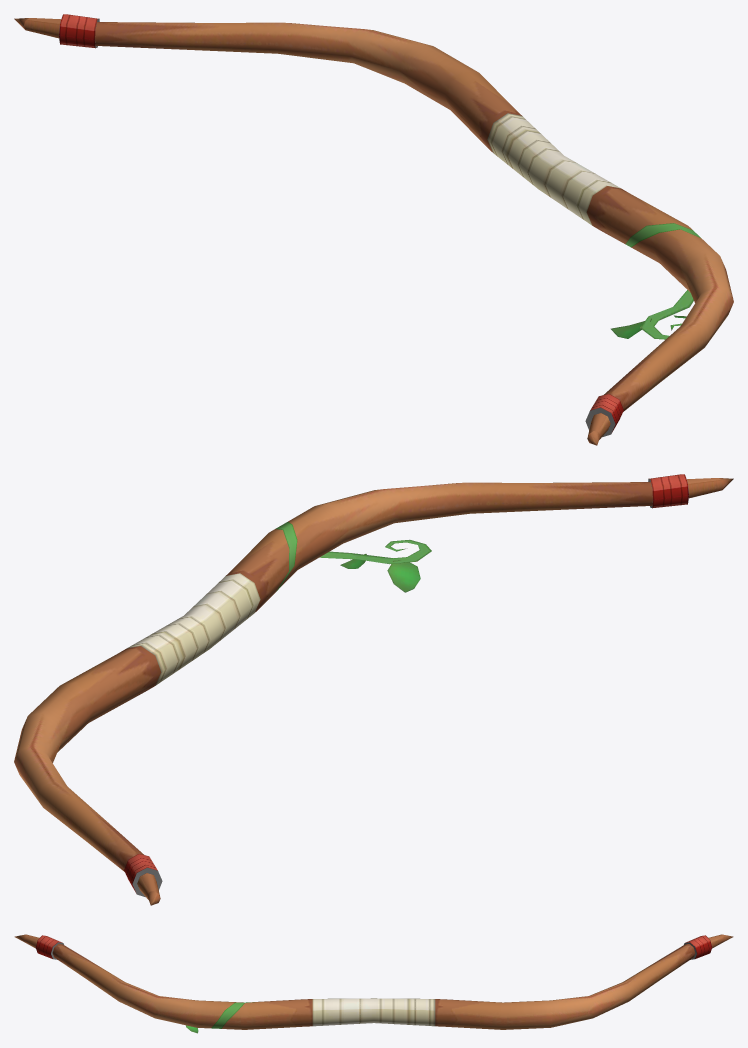
File: bow0014.fbx
3 renders of one model, top to bottom at view 1: azimuth 30°, elevation 25°; view 2: azimuth 150°, elevation 25°; view 3: azimuth 270°, elevation 25°, orthographic. The views are drawn at different scales.
Parts seen in each view (by area): view 1: bow0014; view 2: bow0014; view 3: bow0014.
Boxes of the visible parts, x1,y1,x2,y2 form: bow0014: (14, 14, 733, 445); bow0014: (14, 474, 733, 905); bow0014: (14, 934, 733, 1033).
Size of the model in its own units: 0.2689 by 0.0573 by 0.955.
